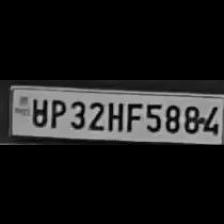2: (86, 96, 104, 130)
3: (66, 95, 86, 129)
4: (200, 100, 218, 134)
5: (142, 100, 162, 132)
8: (161, 100, 181, 134), (182, 100, 200, 134)
F: (122, 98, 142, 132)
H: (104, 97, 124, 130)
P: (47, 95, 66, 127)
U: (26, 94, 48, 126)
